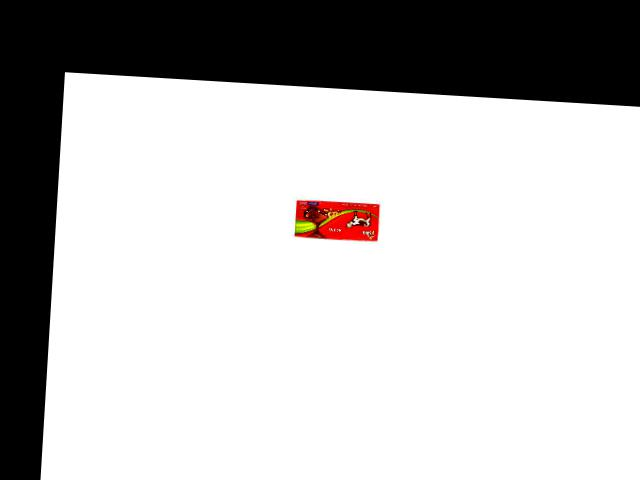chocolate: (292, 191, 385, 244)
